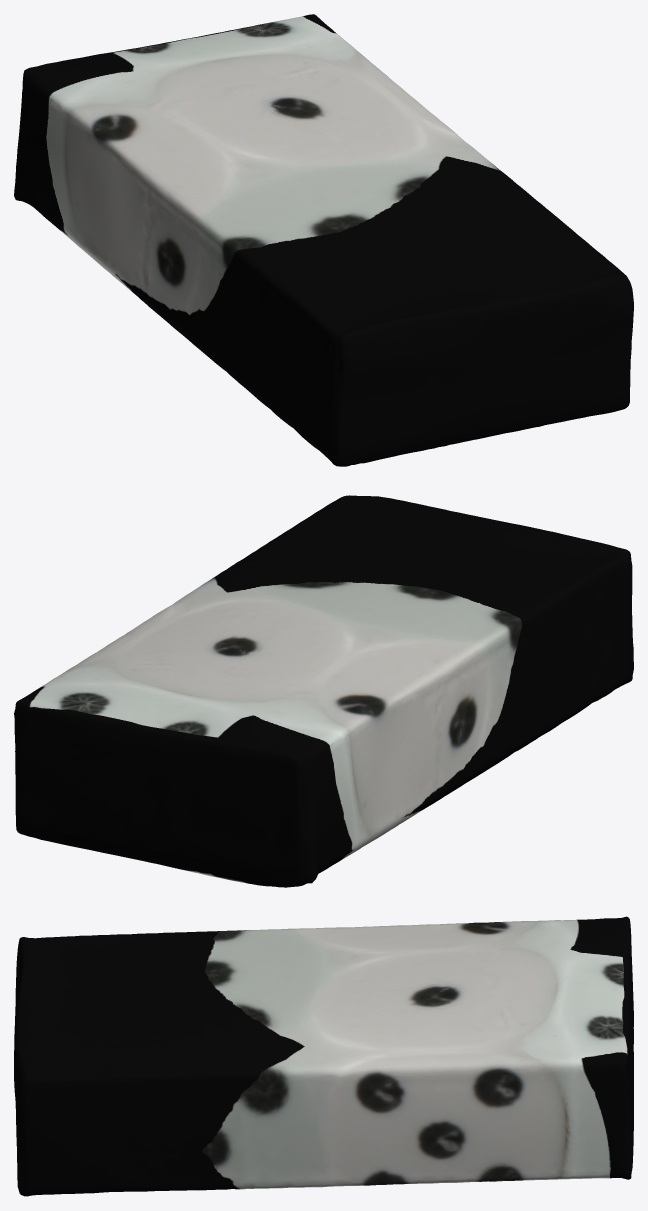
3 renders of one model, top to bottom at view 1: azimuth 30°, elevation 25°; view 2: azimuth 150°, elevation 25°; view 3: azimuth 270°, elevation 25°, orthographic. The views are drawn at different scales.
Parts seen in each view (by area): view 1: textured.003; view 2: textured.003; view 3: textured.003.
Part boxes in pixels (x1,y1,x2,y2): textured.003: (14,14,633,466); textured.003: (14,495,633,887); textured.003: (14,916,633,1196).
Bounding box in the file's own units: 0.0942 × 0.0495 × 0.176.
